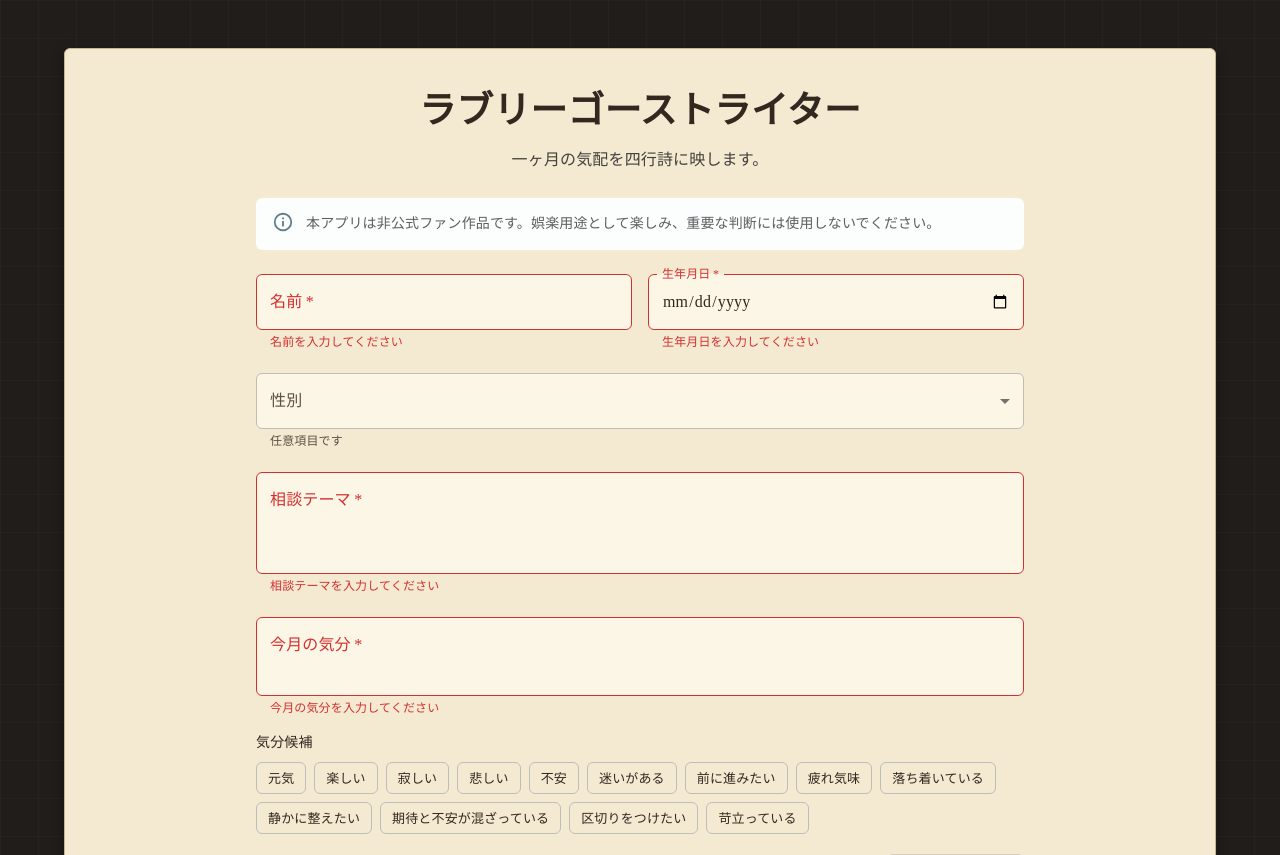
Test case: App › 生成前は結果領域を表示せず、生成後に4週分と再生成ボタンを表示する
Type "ミナ" into the field labelled "名前 *" at (444, 302), box [256,274,632,330]
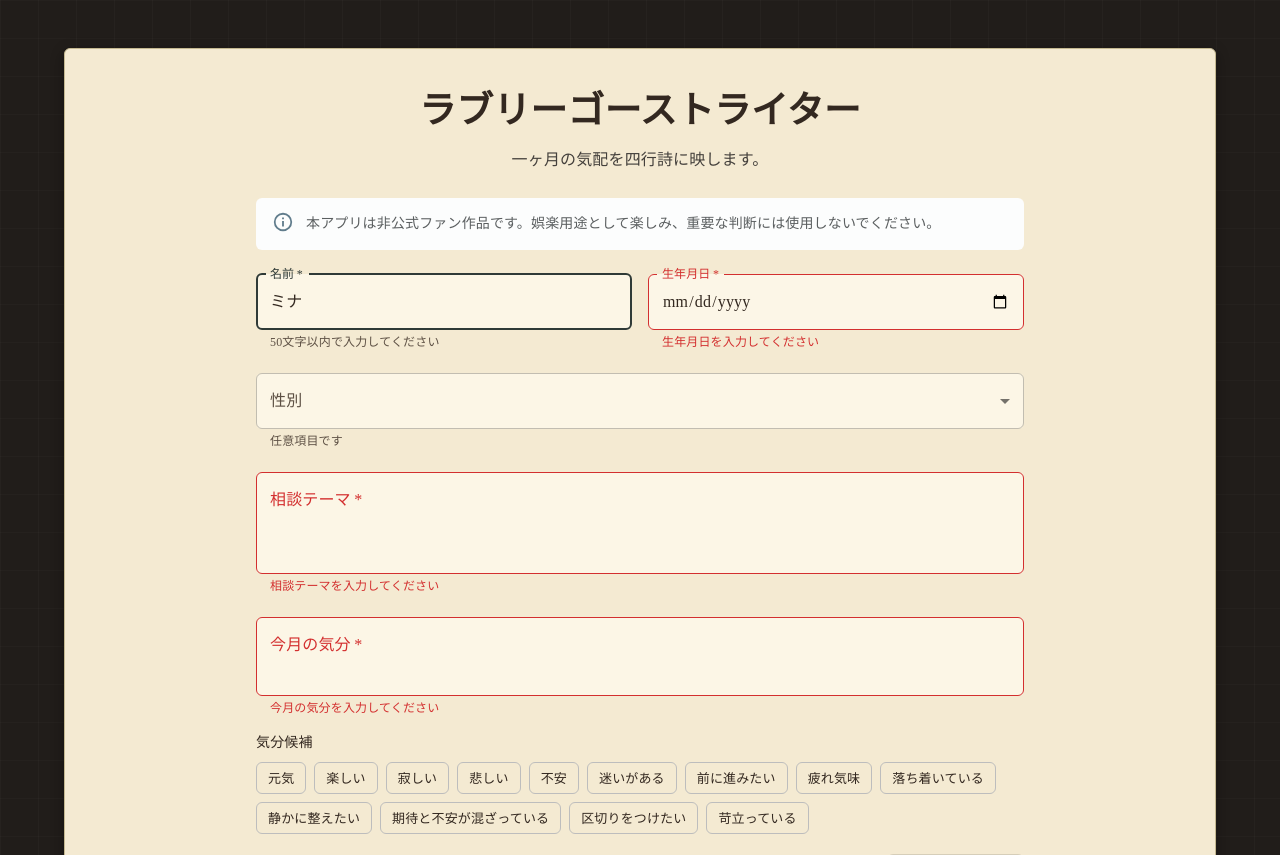
Type "1995-04-12" into the date field labelled "生年月日 *" at (836, 302), box [648,274,1024,330]
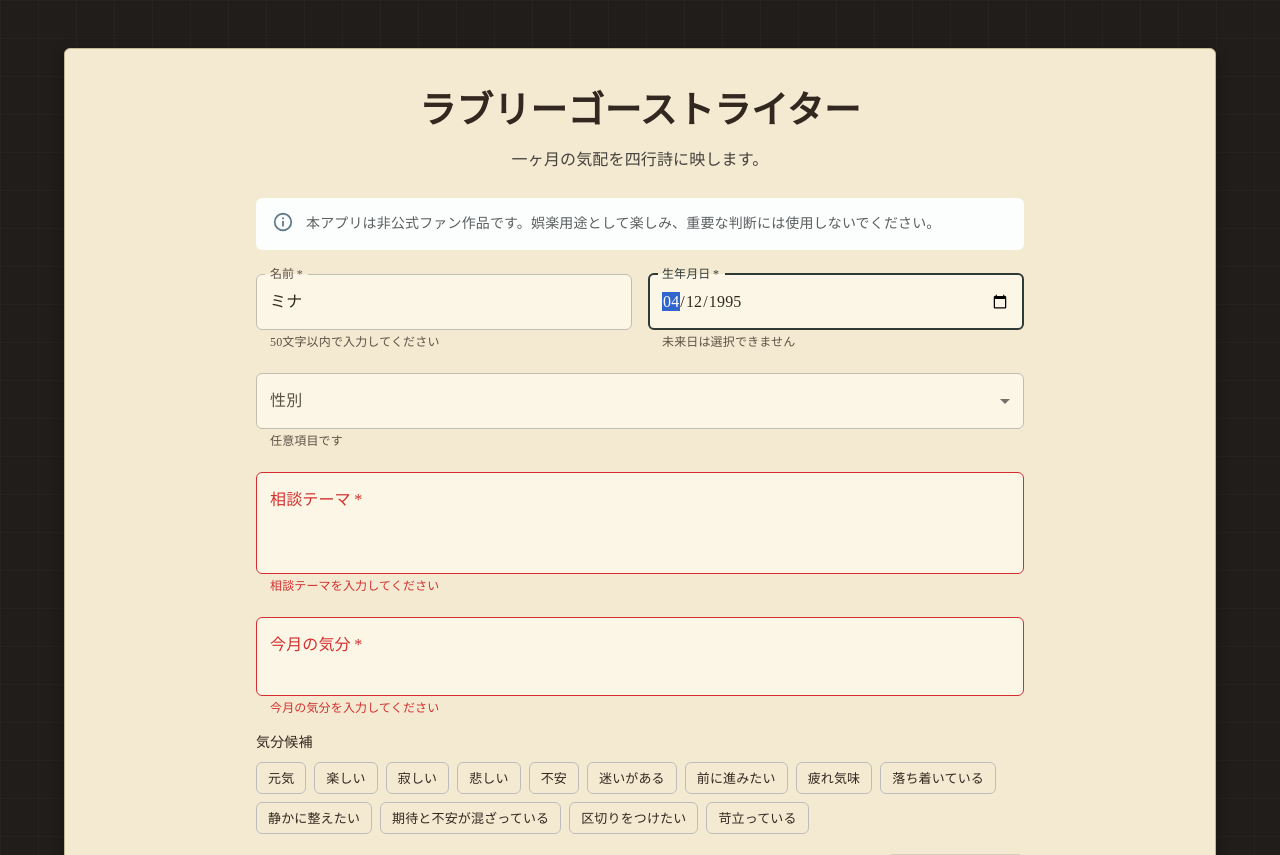
Type "仕事の進め方" into the text box labelled "相談テーマ *" at (640, 523), box [270,488,1010,557]
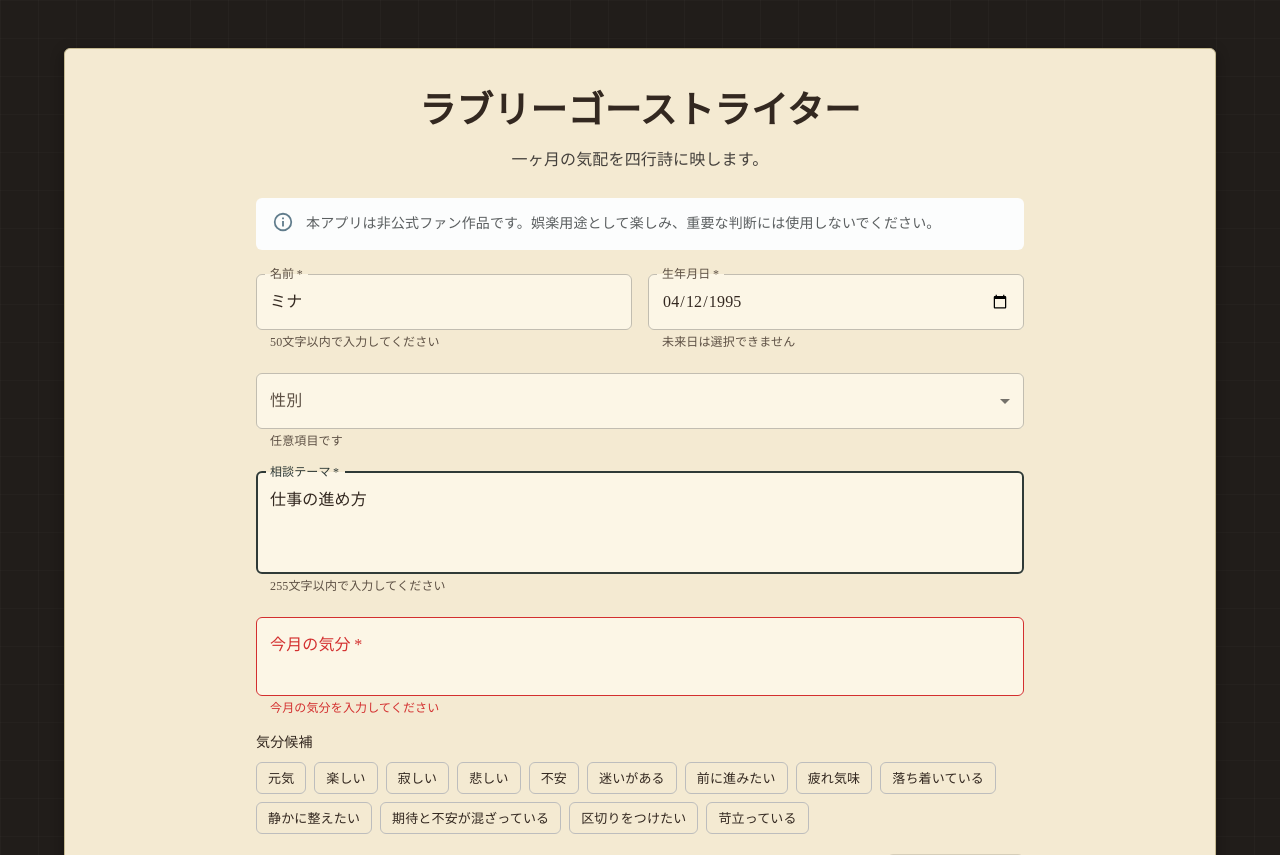
Type "落ち着いている" into the text box labelled "今月の気分 *" at (640, 656), box [270,633,1010,679]
(page scrolled)
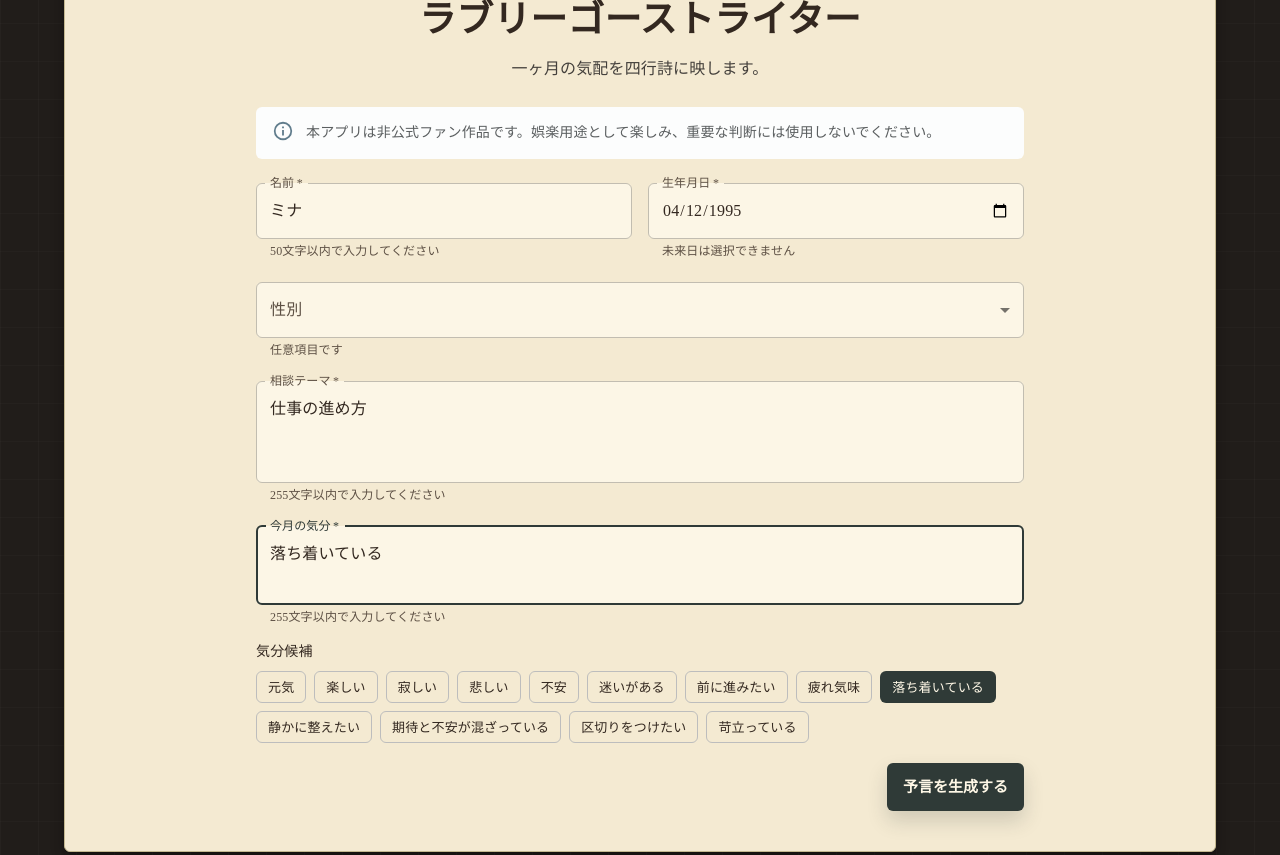
Click the button "予言を生成する" at (956, 787), box [887,763,1024,811]
(page scrolled)
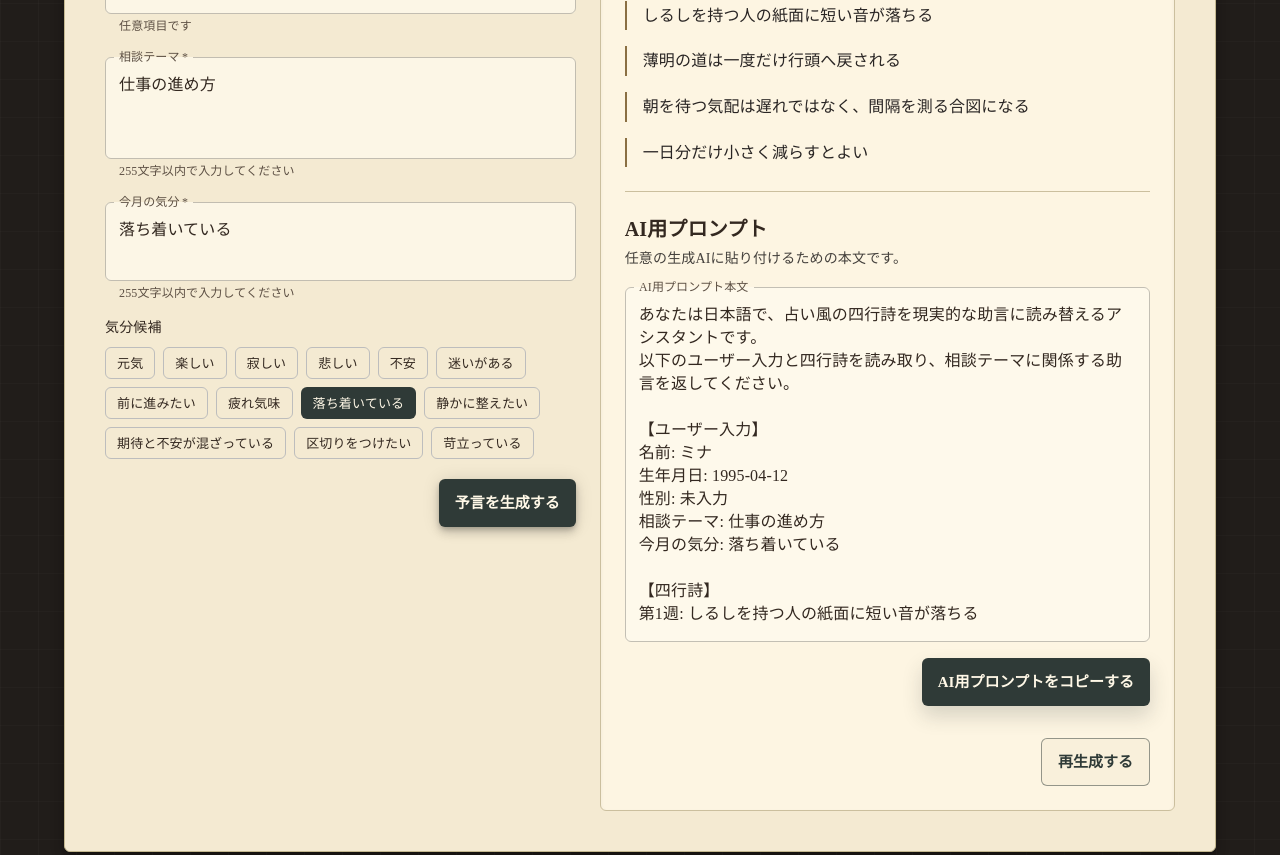
Now the list named "4週分の予言" is shown, box [625,1,1150,167]
Now the text box labelled "AI用プロンプト本文" is shown, box [639,303,1136,625]
Now the button "再生成する" is shown, box [1041,738,1150,786]
